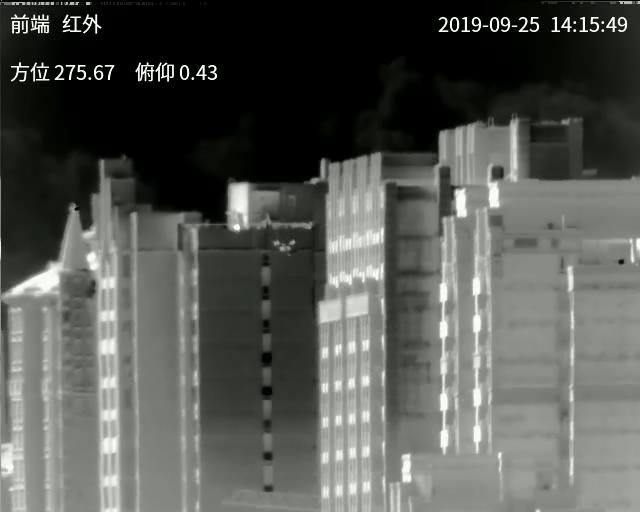uav: (269, 235, 298, 258)
